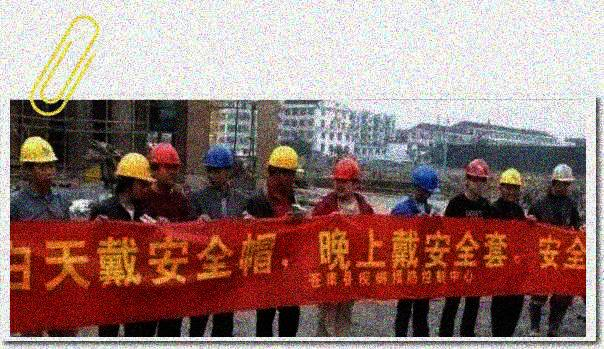helmet: (19, 136, 62, 192), (113, 151, 152, 202), (265, 144, 305, 191), (147, 140, 184, 187), (202, 142, 235, 188), (333, 156, 364, 198), (410, 165, 440, 202), (465, 156, 492, 194), (550, 160, 577, 197), (498, 167, 523, 203)
